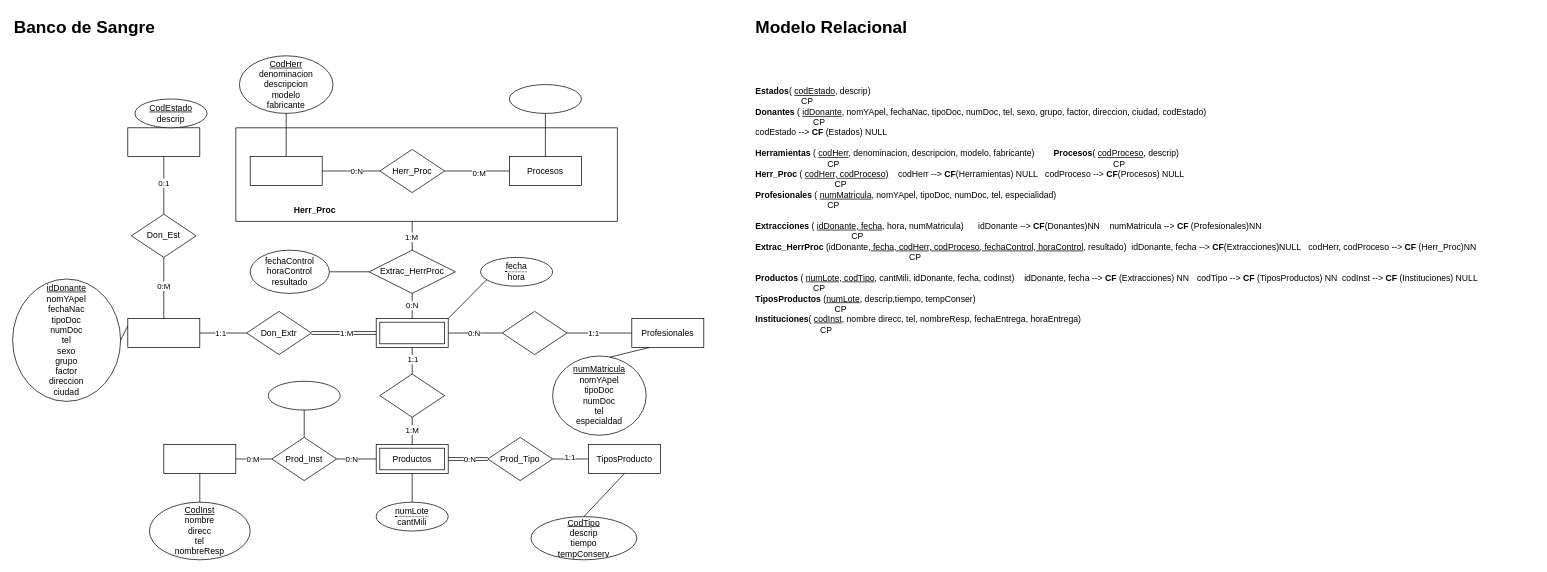
Image size: 1547x572. Some labels were removed from this diagram. Here are the shapes that lost their labels. From the top down, the centre of each, then its label:
(545,98): CodProceso descrip
(163,142): Estados
(285,170): Herramientas
(163,332): Donantes
(411,332): Extracciones
(534,333): Prof_Extr
(303,395): fechaEntrega horaEntrega
(412,395): Prod_Extr
(199,458): Instituciones
